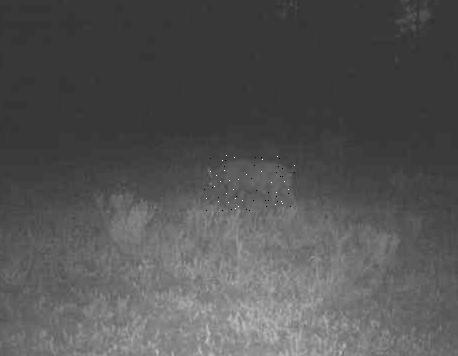Hog: (203, 156, 295, 214)
